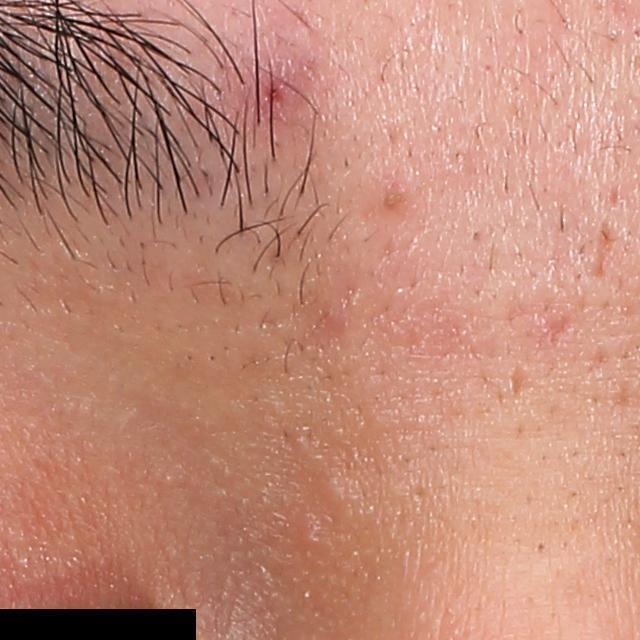atrophic_scar: (588, 215, 623, 280), (507, 359, 528, 401)
comedo: (317, 479, 355, 516), (296, 521, 330, 560)
